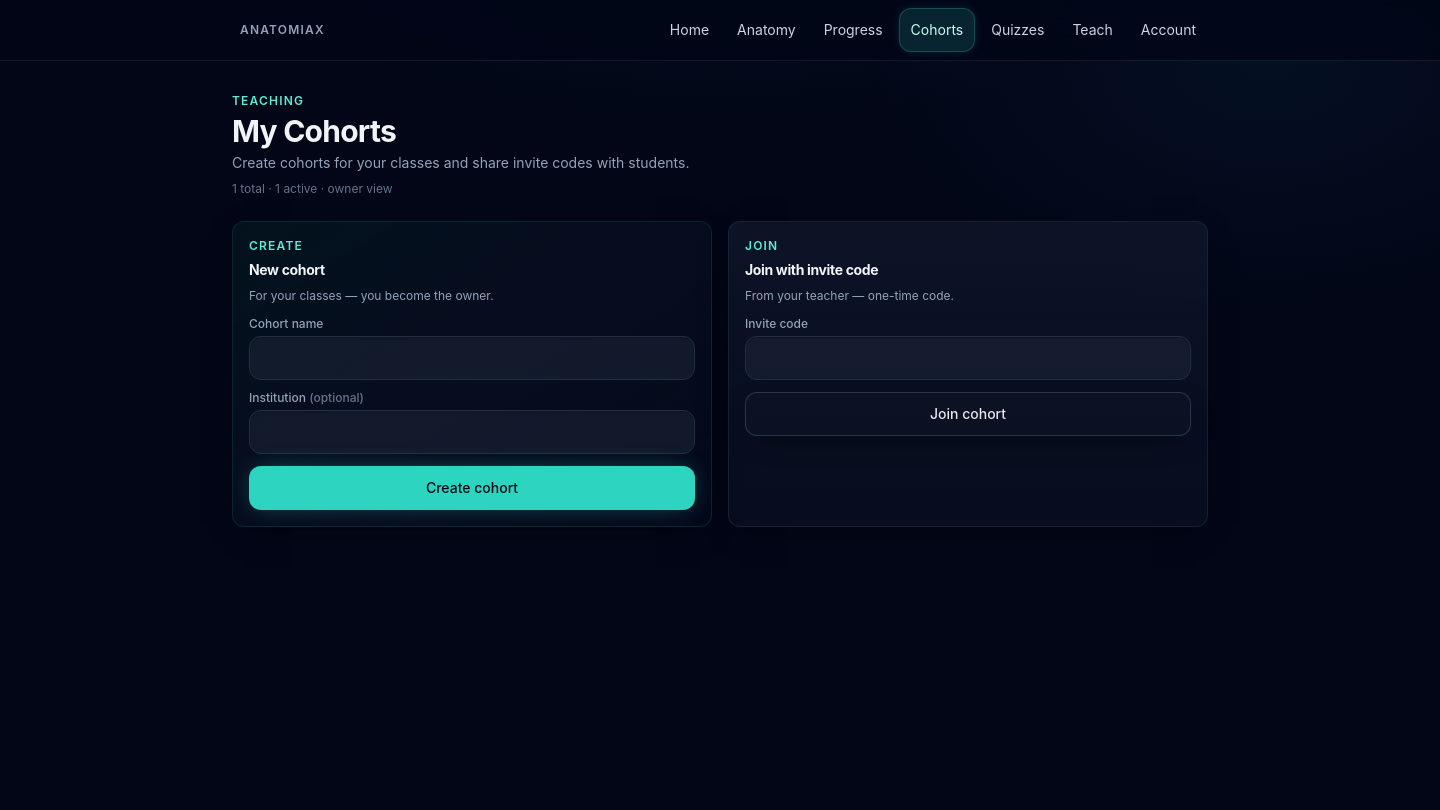
Scenario: teacher cohorts (8.20.4) › creates a cohort and reveals the invite code once
Step 1. Type "Anatomy Lab" into the field with test id "cohort-create-name" → (472, 358), box [249, 336, 695, 380]
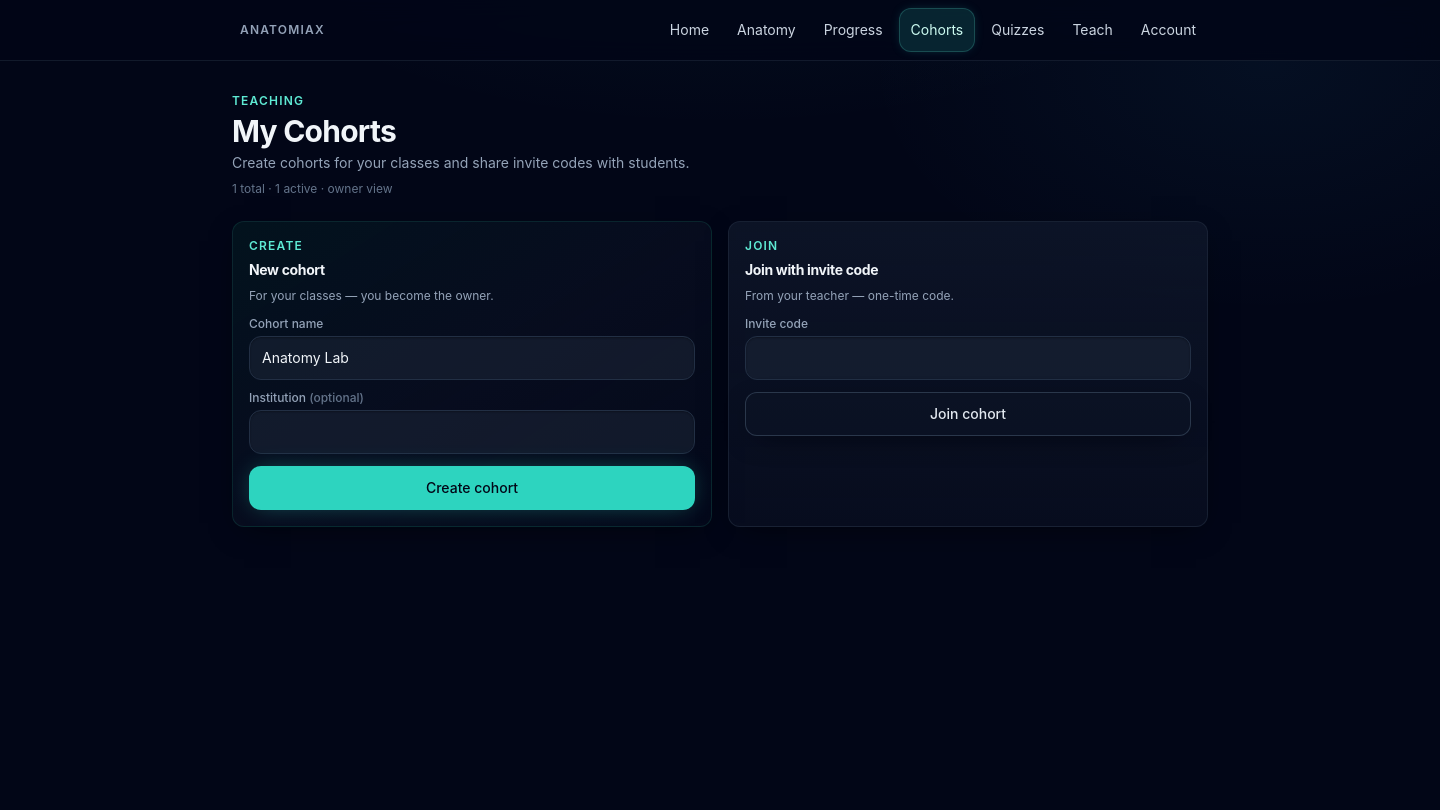
Step 2. Type "Med School" into the field with test id "cohort-create-institution" → (472, 432), box [249, 410, 695, 454]
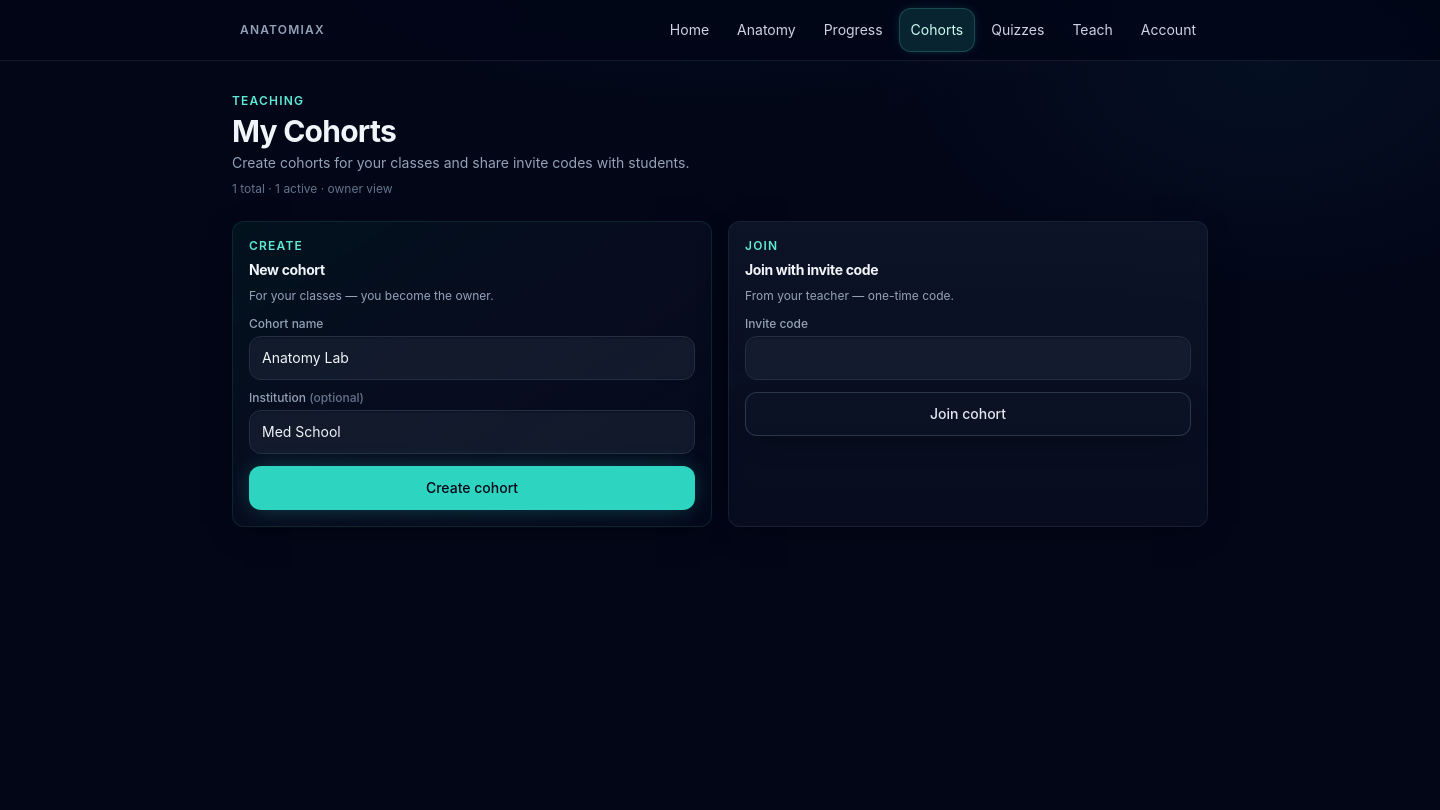
Step 3. Click the button with test id "cohort-create-submit" → (472, 488), box [249, 466, 695, 510]
(page scrolled)
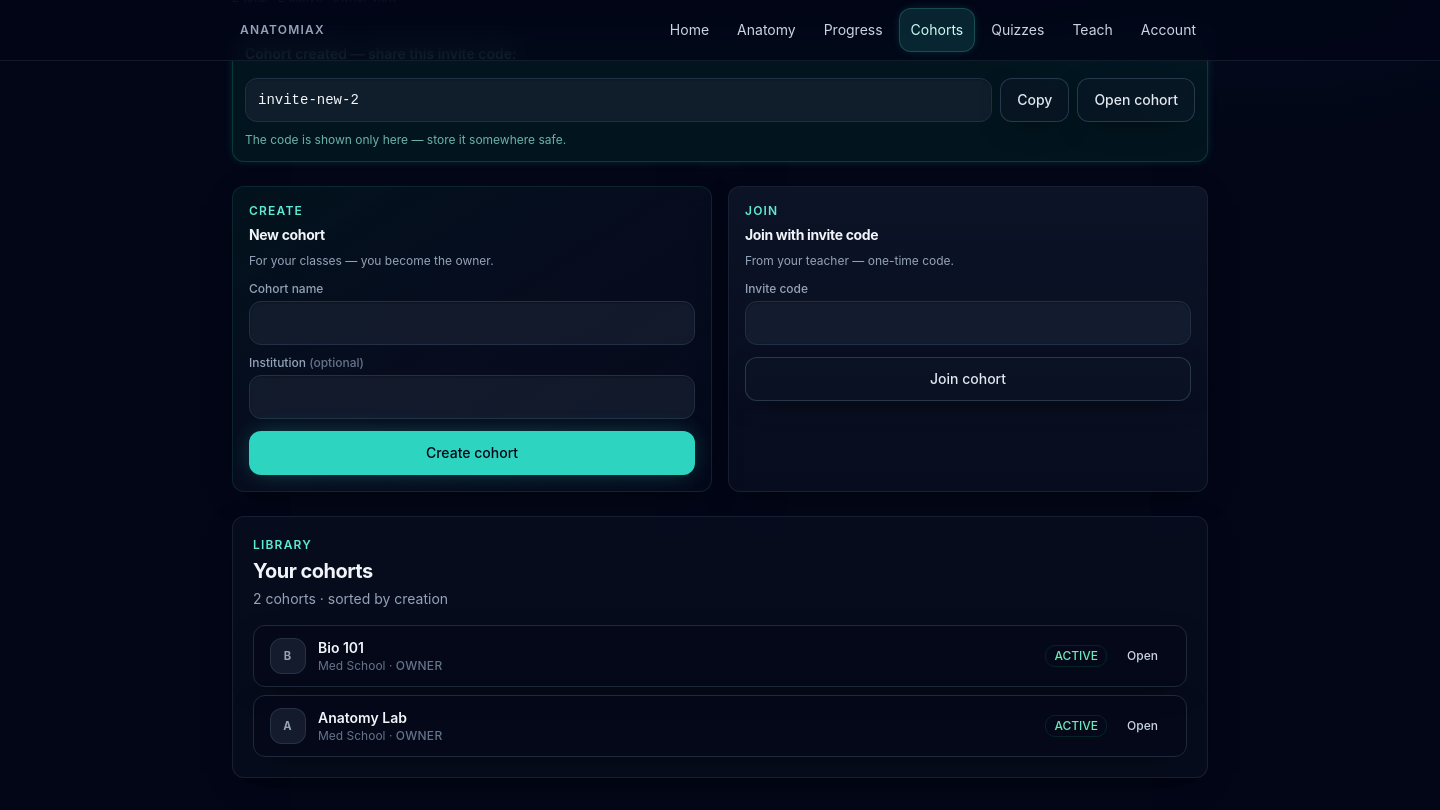
Result: the message with test id "cohort-created-invite" is shown at [232, 30, 1208, 162]
Result: the field with test id "cohort-created-code" holds "invite-new-2" at [245, 78, 992, 122]
Result: the link "Anatomy Lab" is shown at [318, 709, 407, 726]
